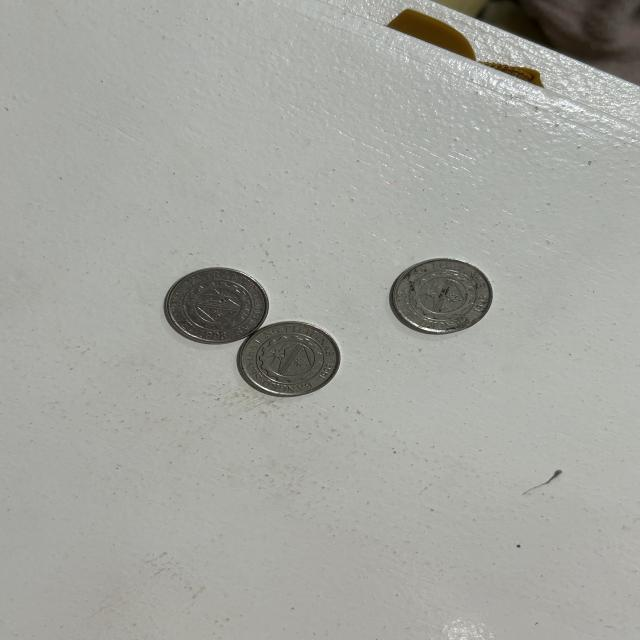1_Old_Back: (254, 332, 327, 387), (406, 268, 480, 322), (183, 278, 252, 332)
